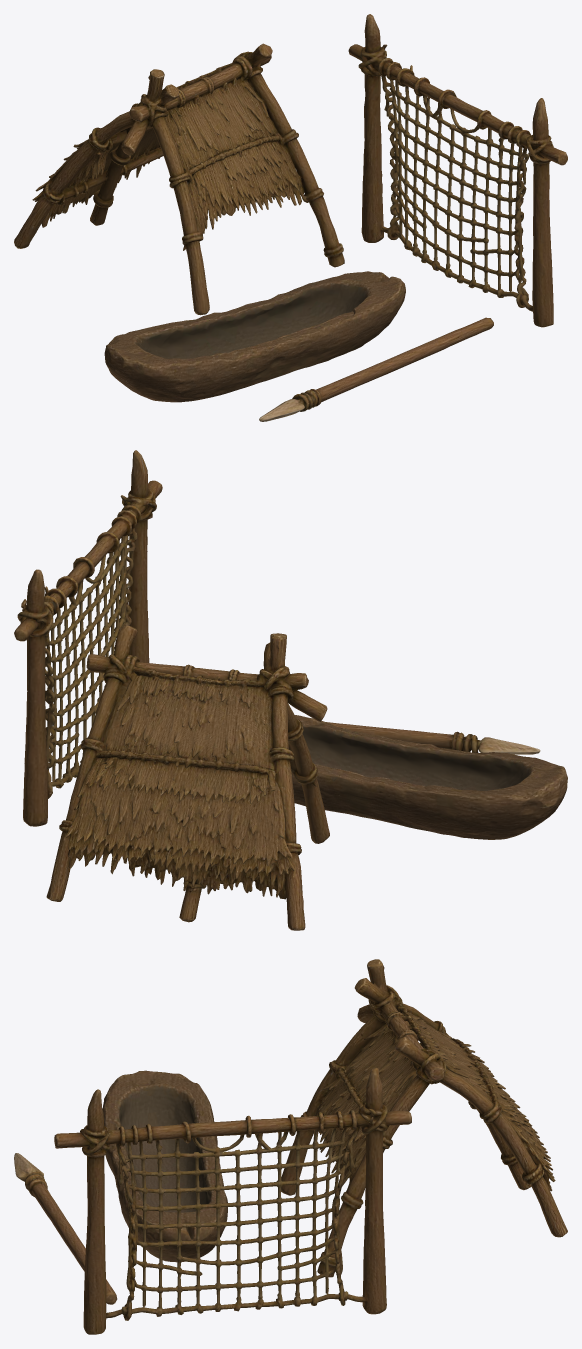
File: Fishing Post (East African).fbx
The picture shows the model from 3 angles, top to bottom: view 1: azimuth 30°, elevation 25°; view 2: azimuth 150°, elevation 25°; view 3: azimuth 270°, elevation 25°; orthographic projection. The views are drawn at different scales.
Visible parts, largest first — view 1: tripo_node_9750cf69; view 2: tripo_node_9750cf69; view 3: tripo_node_9750cf69.
Boxes of the visible parts, x1=… form: tripo_node_9750cf69: x1=14, y1=14, x2=567, y2=421; tripo_node_9750cf69: x1=14, y1=450, x2=567, y2=930; tripo_node_9750cf69: x1=14, y1=959, x2=567, y2=1334.
Bounding box in the file's own units: 0.9265 × 0.4848 × 1.
